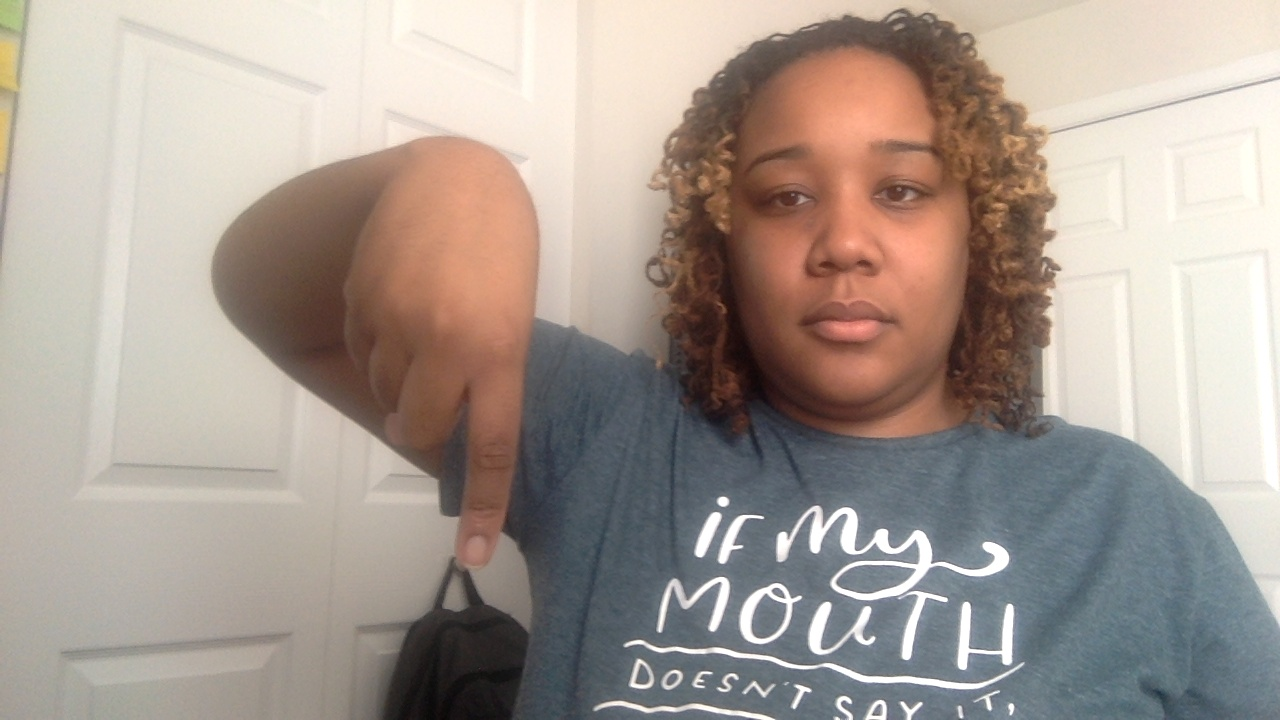down: (206, 131, 553, 574)
